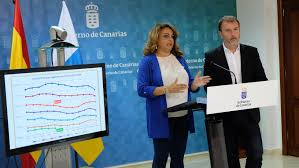person: (201, 10, 272, 108), (138, 24, 198, 109)
